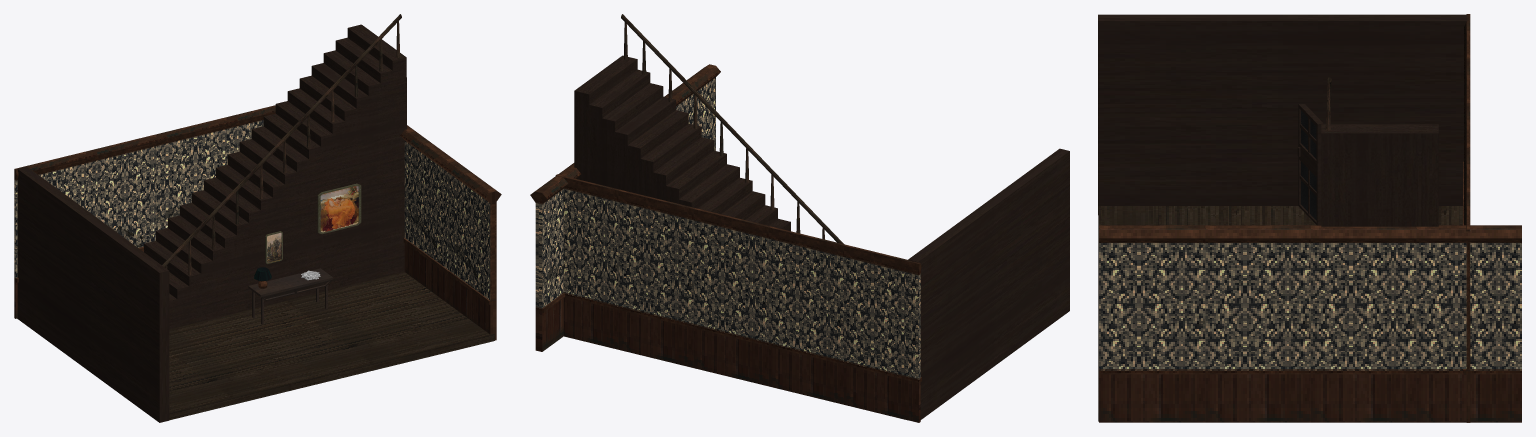
The model's file is SM_Entry_Room.glb.
3 views of the same model, side by side, from view 1: azimuth 30°, elevation 25°; view 2: azimuth 150°, elevation 25°; view 3: azimuth 270°, elevation 25° (orthographic). The views are drawn at different scales.
Visible parts, largest first — view 1: Staircase, SM_House_Blockout.101, SM_House_Blockout.113, Entry_Wall, SM_House_Blockout.134, SM_House_Blockout.132, SM_House_Blockout.109, Handle_Rail, pillars; view 2: Entry_Wall, SM_House_Blockout.113, Staircase, SM_House_Blockout.134, Handle_Rail, pillars; view 3: SM_House_Blockout.134, SM_House_Blockout.113, Staircase, SM_House_Blockout.101, SM_House_Blockout.191, Entry_Wall.
Part boxes in pixels (box(x1,y1,x2,y2)): Staircase: box(144, 24, 406, 329); SM_House_Blockout.101: box(169, 272, 494, 420); SM_House_Blockout.113: box(17, 166, 169, 422); Entry_Wall: box(14, 105, 275, 318); SM_House_Blockout.134: box(400, 125, 501, 340); SM_House_Blockout.132: box(265, 183, 361, 263); SM_House_Blockout.109: box(248, 268, 333, 324); Handle_Rail: box(162, 14, 401, 267); pillars: box(165, 20, 400, 275); Entry_Wall: box(555, 174, 921, 422); SM_House_Blockout.113: box(908, 148, 1069, 419); Staircase: box(574, 55, 790, 231); SM_House_Blockout.134: box(530, 64, 720, 351); Handle_Rail: box(621, 14, 843, 243); pillars: box(624, 22, 824, 239); SM_House_Blockout.134: box(1099, 225, 1521, 422); SM_House_Blockout.113: box(1098, 14, 1467, 214); Staircase: box(1321, 124, 1438, 226); SM_House_Blockout.101: box(1098, 206, 1462, 421); SM_House_Blockout.191: box(1297, 104, 1323, 225); Entry_Wall: box(1463, 14, 1470, 422).
Bounding box in the file's own units: 14.67 × 10.71 × 12.04.
Materials: 11 (11 with a texture image).
